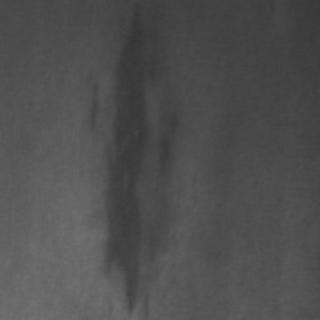inclusion: (85, 0, 169, 314)
